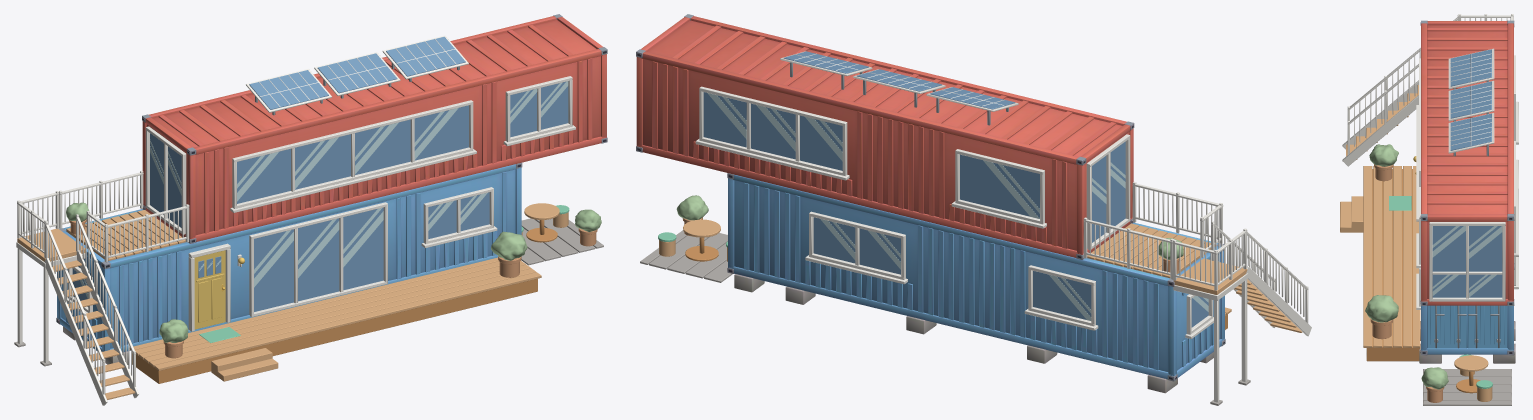
Rendered from container-home.glb.
3 views of the same model, side by side, from view 1: azimuth 30°, elevation 25°; view 2: azimuth 150°, elevation 25°; view 3: azimuth 270°, elevation 25° (orthographic). The views are drawn at different scales.
Visible parts, largest first — view 1: container-home_details, container-home_body; view 2: container-home_body, container-home_details; view 3: container-home_details, container-home_body.
Part boxes in pixels (bbox=[...]): container-home_details: bbox=[14, 35, 603, 405]; container-home_body: bbox=[56, 14, 607, 364]; container-home_body: bbox=[636, 14, 1225, 393]; container-home_details: bbox=[640, 51, 1311, 405]; container-home_details: bbox=[1340, 14, 1518, 405]; container-home_body: bbox=[1419, 20, 1515, 363].
Bounding box in the file's own units: 15.99 × 6.01 × 4.7.
Materials: 2 (2 with a texture image).
